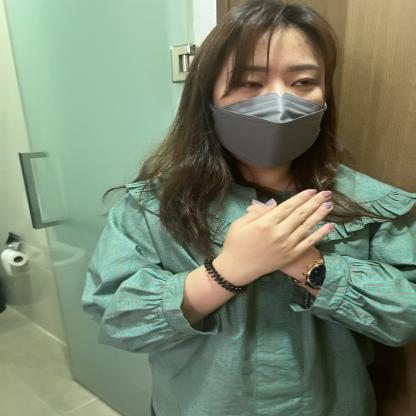Grieve: (91, 128, 403, 310)
